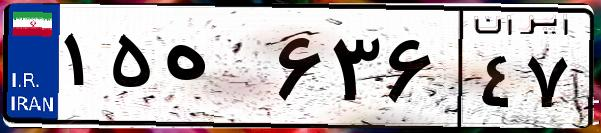1: (57, 26, 110, 100)
3: (330, 28, 385, 110)
4: (475, 38, 525, 113)
5: (110, 28, 158, 98)
6: (270, 28, 330, 110), (385, 28, 445, 110)
7: (525, 38, 570, 115)
ه: (158, 20, 270, 120)
